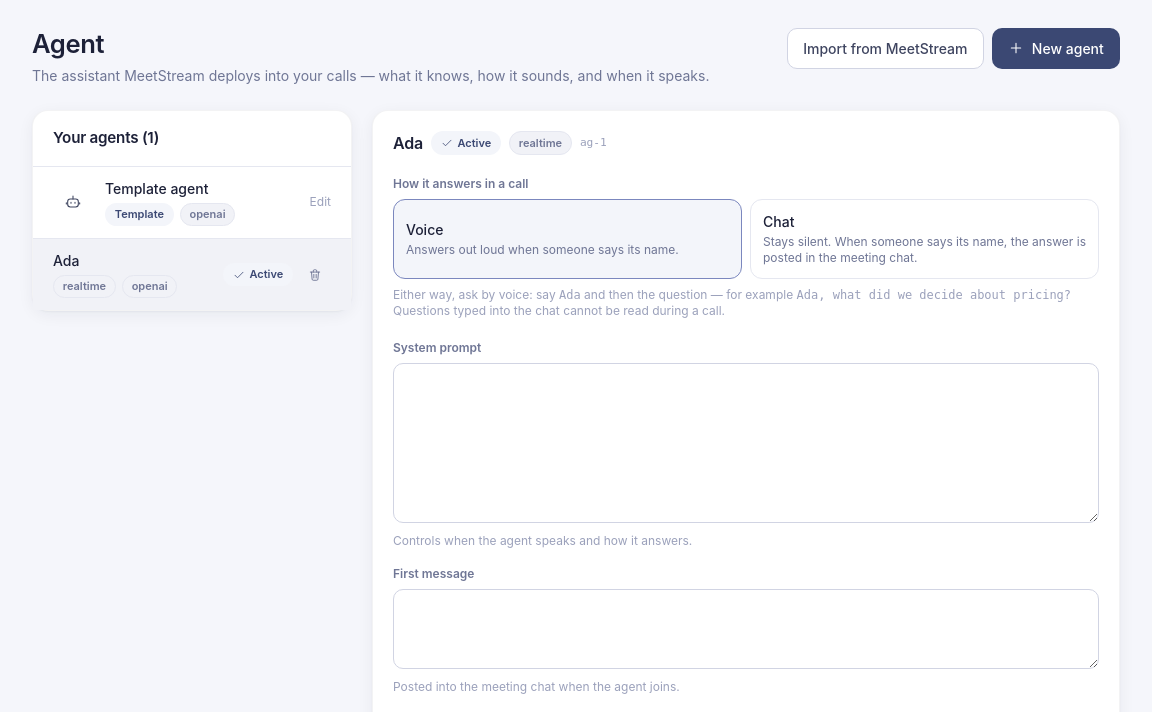
how the agent answers in a call › offers voice and chat, voice selected, and a change is saved then re-read
Expected: the text "typed into the chat cannot be read" is shown, 393,303 -> 725,318
Click the radio button labelled "Chat Stays silent". click: (924, 239)
box: 750,199 -> 1099,279
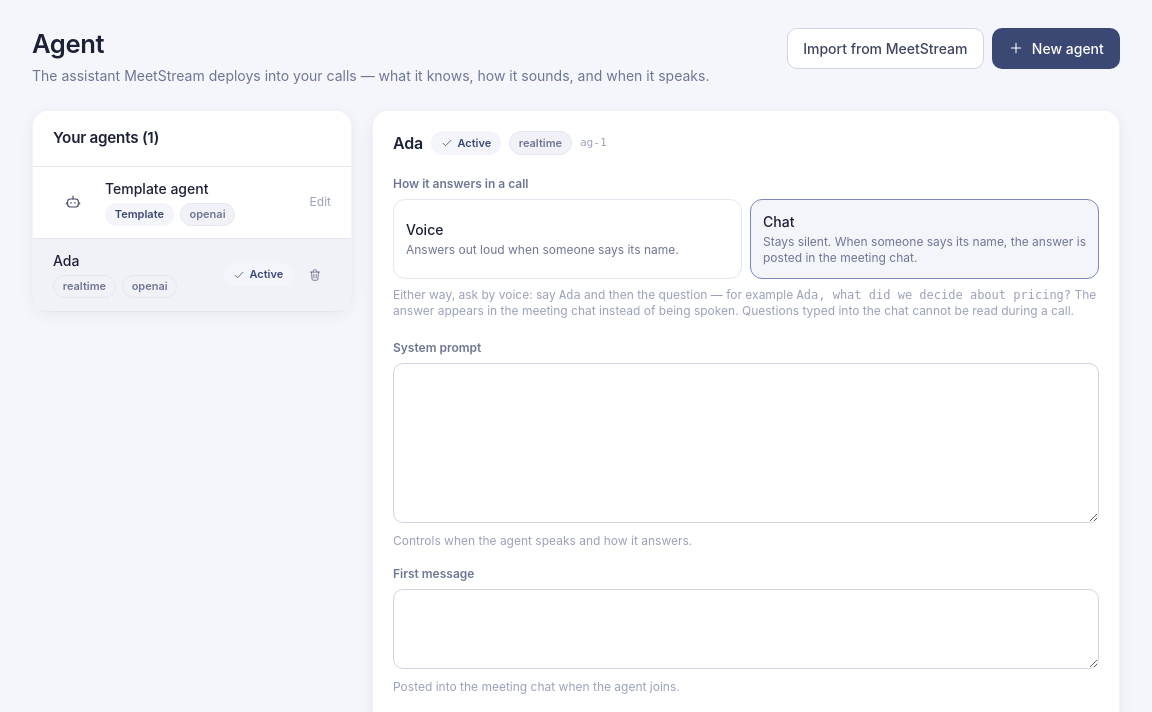
Now the text "appears in the meeting chat instead" is shown, box 393,287 -> 1096,318
